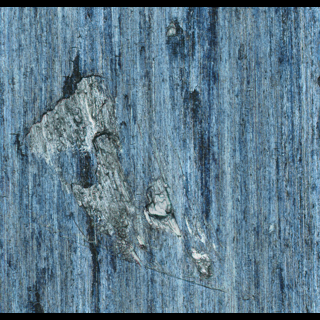d: (12, 52, 220, 280), (163, 17, 187, 51)
